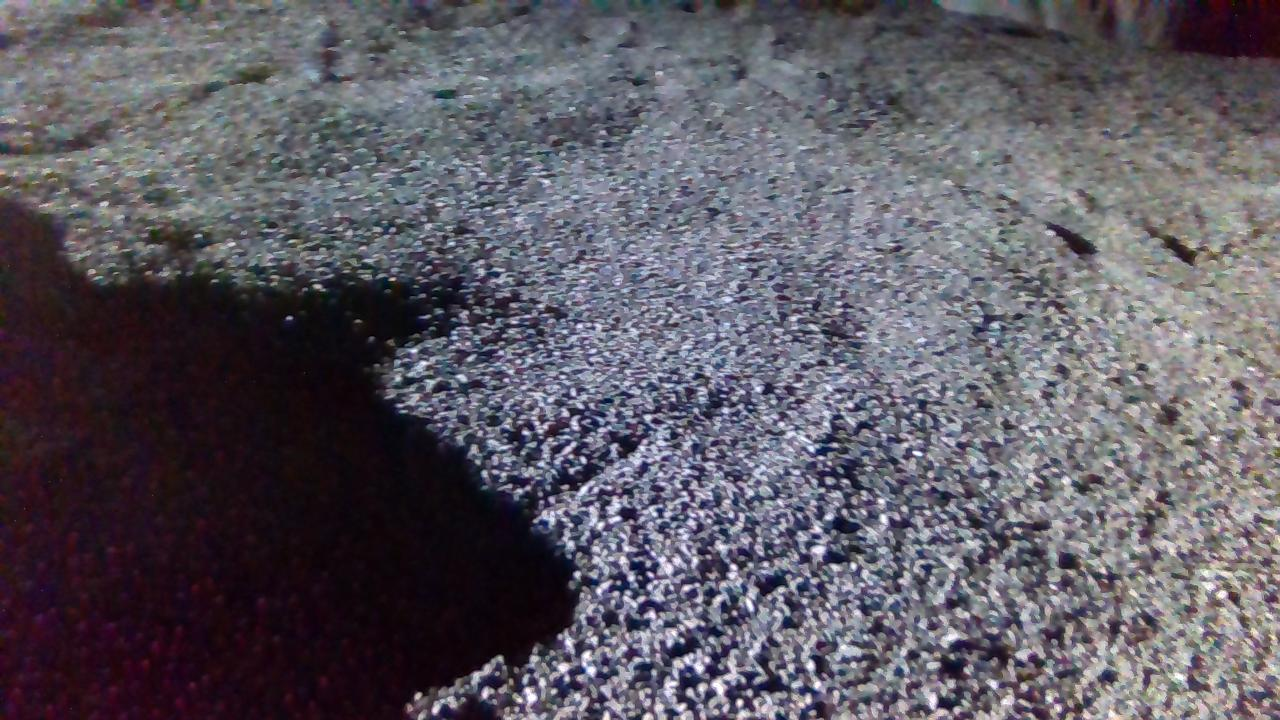rock: (940, 0, 1280, 55)
